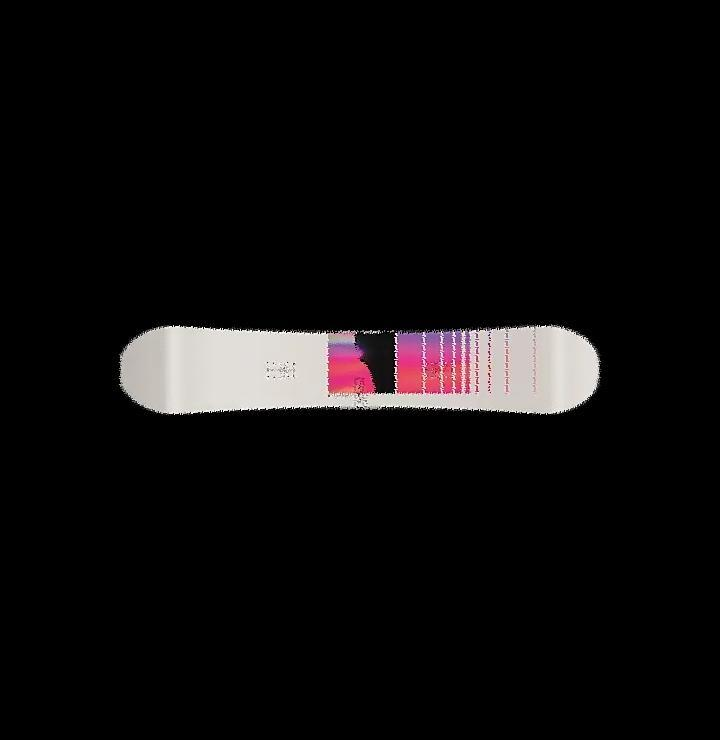Snowboard: (118, 323, 600, 415)
